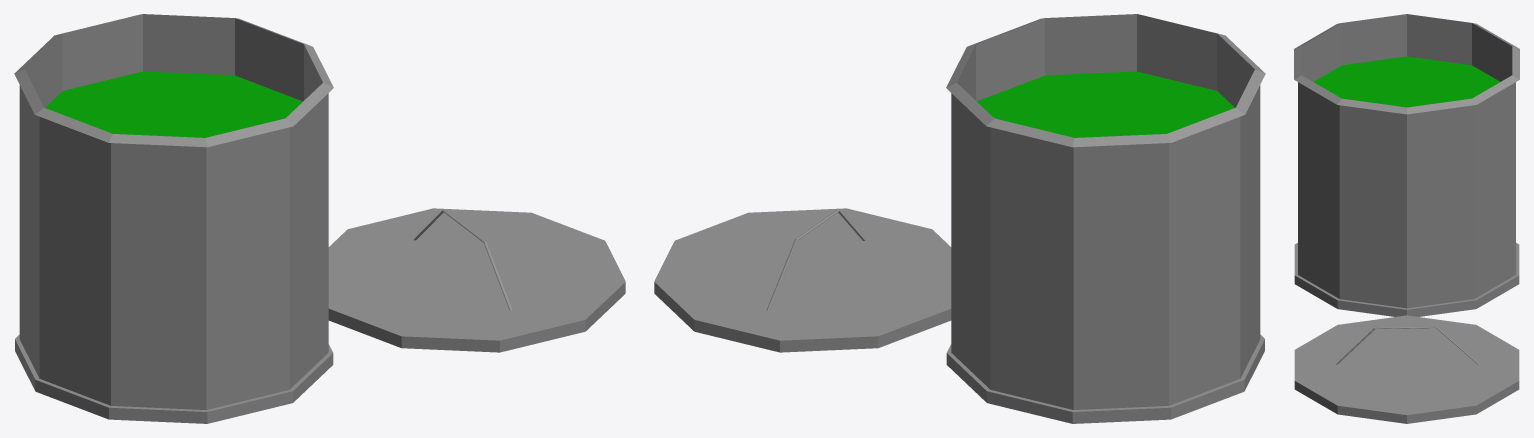
File: cubo_pintura_verde.fbx
3 views of the same model, side by side, from view 1: azimuth 30°, elevation 25°; view 2: azimuth 150°, elevation 25°; view 3: azimuth 270°, elevation 25° (orthographic). The views are drawn at different scales.
Visible parts, largest first — view 1: pCylinder3; view 2: pCylinder3; view 3: pCylinder3.
Boxes of the visible parts, x1,y1,x2,y2 form: pCylinder3: (14,14,625,423); pCylinder3: (654,14,1265,423); pCylinder3: (1294,14,1519,423).
Size of the model in its own units: 4.11 by 1.94 by 1.91.
